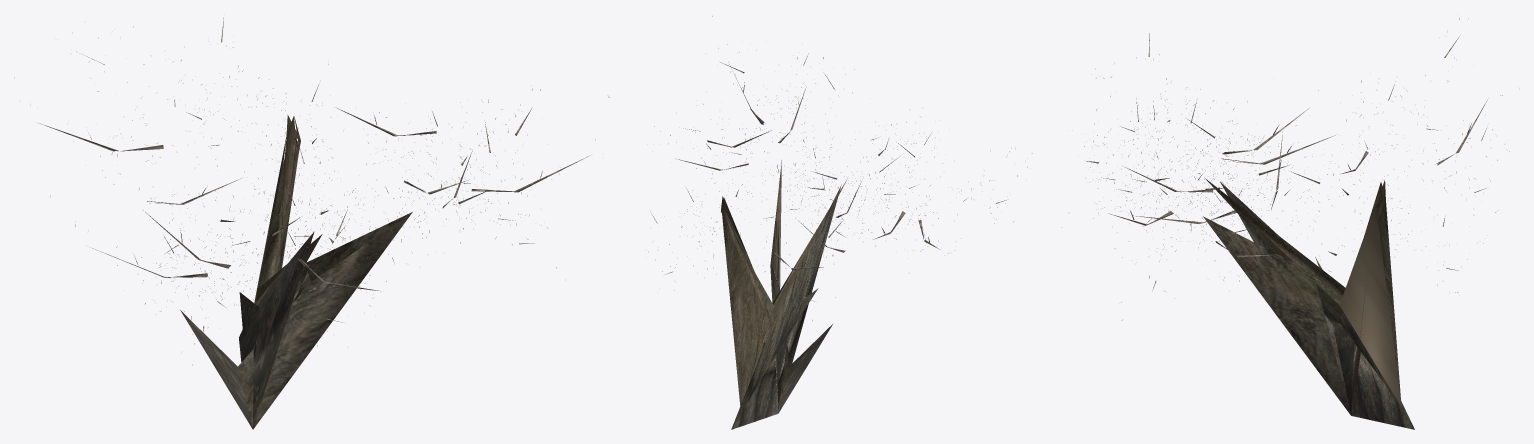
The model's file is island_tree_02.fbx.
3 renders of one model, left to right at view 1: azimuth 30°, elevation 25°; view 2: azimuth 150°, elevation 25°; view 3: azimuth 270°, elevation 25°, orthographic. The views are drawn at different scales.
Visible parts, largest first — view 1: island_tree_02_LOD0.001; view 2: island_tree_02_LOD0.001; view 3: island_tree_02_LOD0.001.
Boxes of the visible parts, left/top/right/bottom form: island_tree_02_LOD0.001: left=14, top=18, right=609, bottom=429; island_tree_02_LOD0.001: left=648, top=16, right=1032, bottom=429; island_tree_02_LOD0.001: left=1069, top=18, right=1509, bottom=429.
Size of what is drawn, in the model's own units: 385 by 329 by 384.
Materials: 2 (2 with a texture image).
